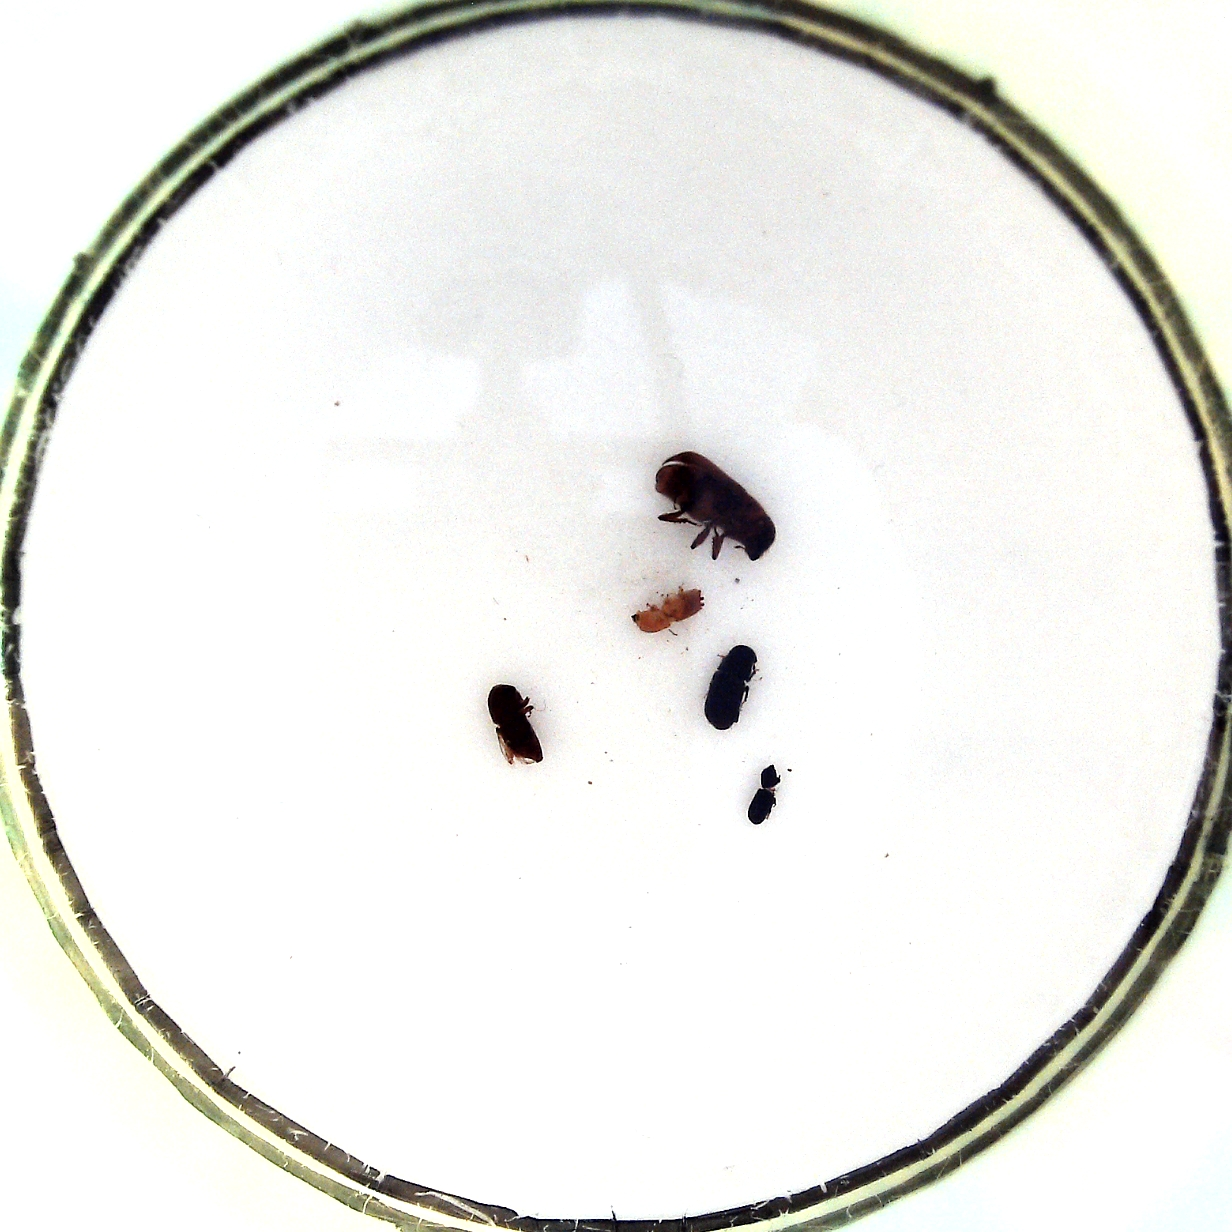Leconte: (650, 450, 776, 562)
Linnaeus: (484, 677, 548, 772)
acuminatus: (630, 583, 707, 639)
armandi: (701, 641, 760, 732)
coleoptera: (747, 764, 786, 827)
